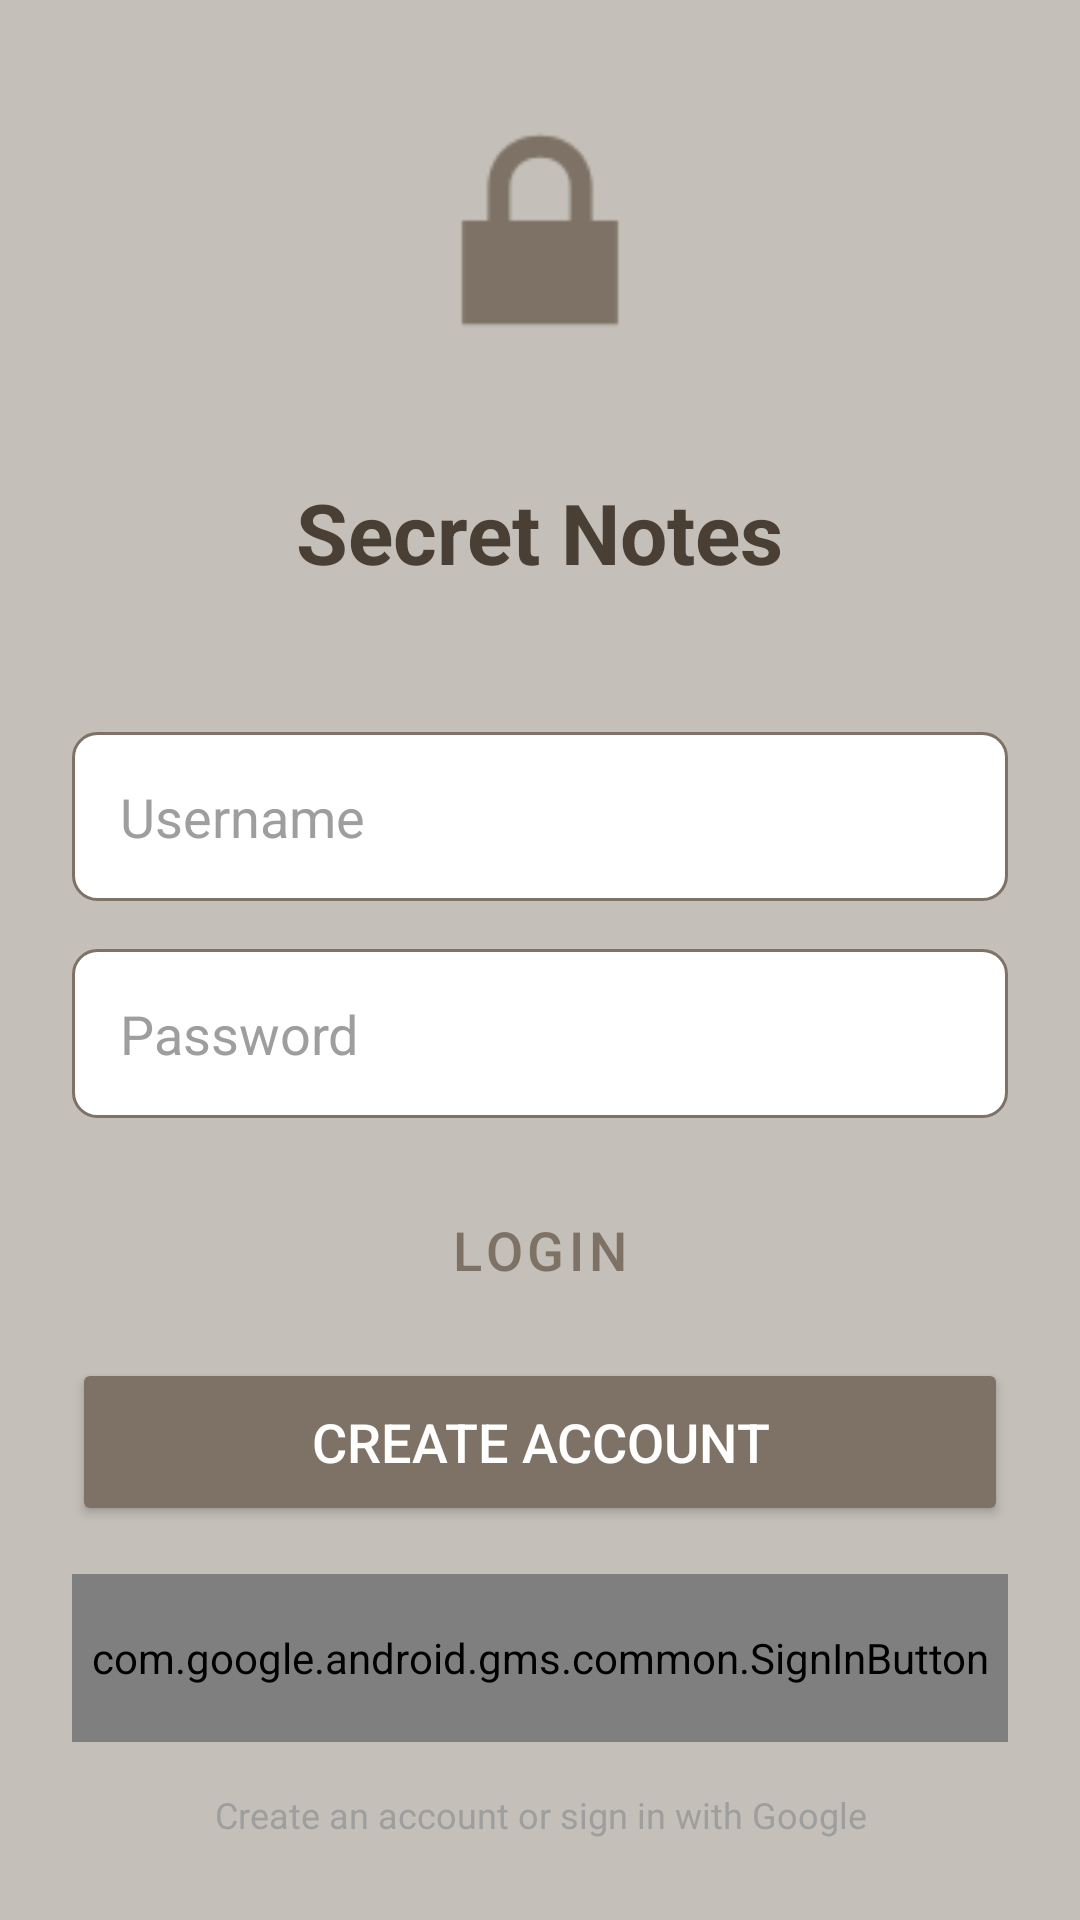

Icons on this 1080*1920 Android screen, each with its box as (x1, y1, x2, y2):
lock: (461, 135, 619, 325)
